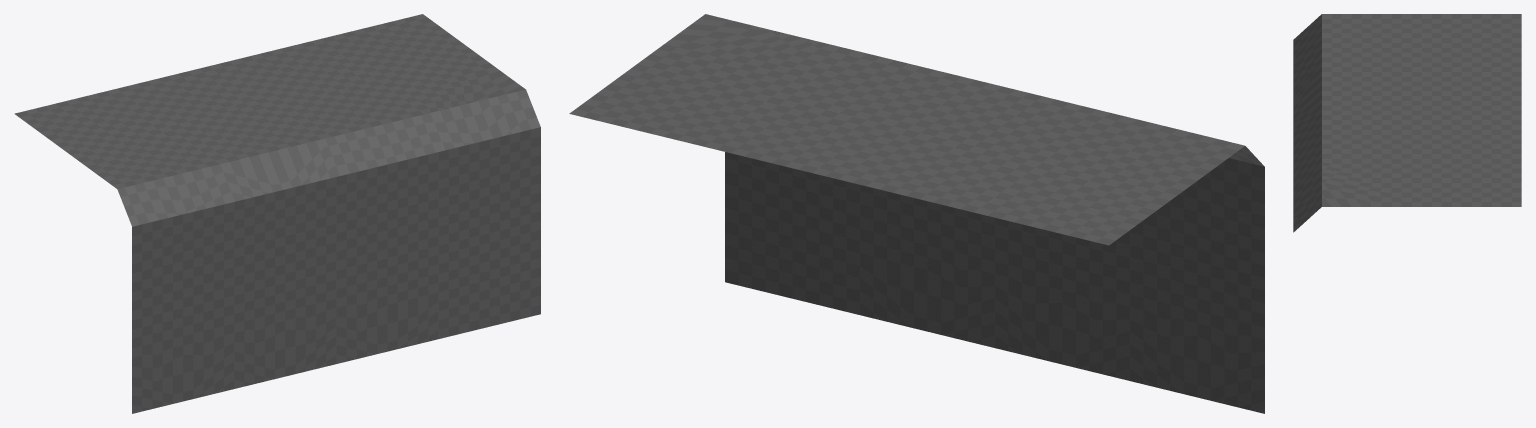
3 renders of one model, left to right at view 1: azimuth 30°, elevation 25°; view 2: azimuth 150°, elevation 25°; view 3: azimuth 270°, elevation 25°, orthographic. The views are drawn at different scales.
Parts seen in each view (by area): view 1: 0; view 2: 0; view 3: 0.
Part boxes in pixels (x1,y1,x2,y2): 0: [14, 14, 540, 413]; 0: [569, 14, 1264, 413]; 0: [1293, 14, 1521, 232].
Size of the model in its own units: 4 by 2 by 2.
1 material, 1 textured.
